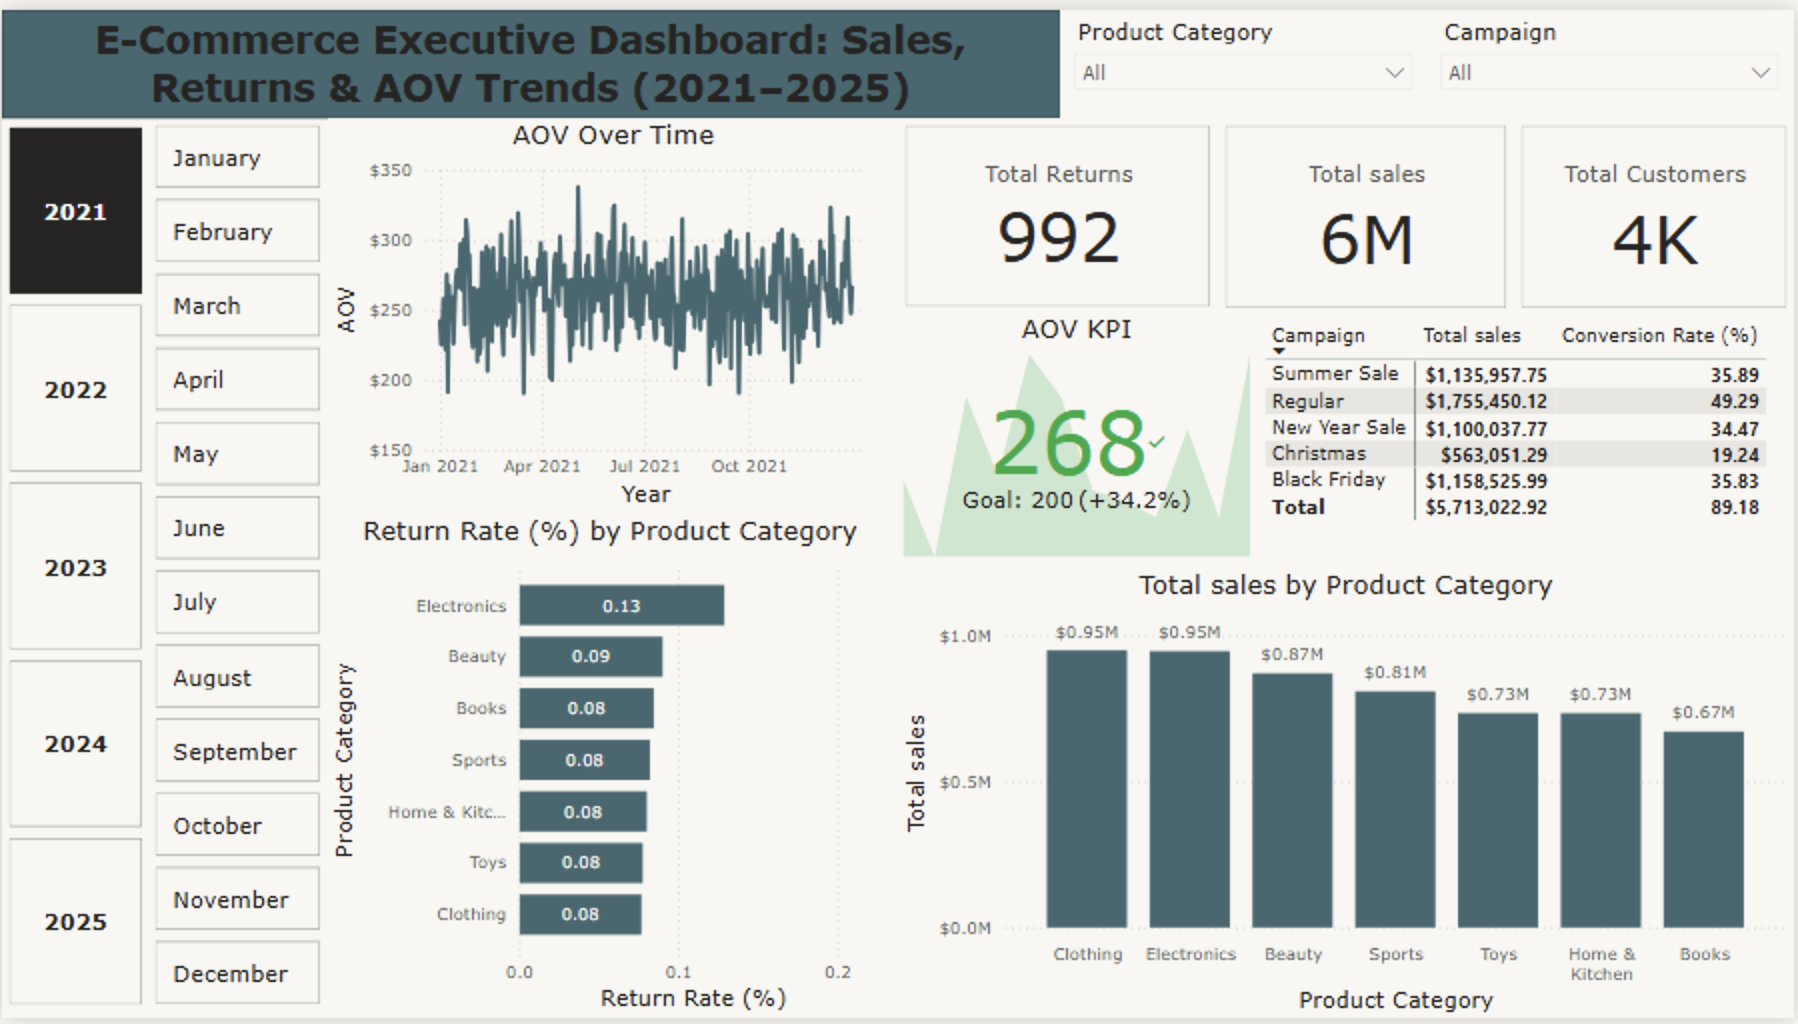

The dashboard page shown, as its layout file describes it:
{"tool":"powerbi","page":{"name":"Page 1","canvas":[1280,720],"ordinal":0},"visuals":[{"type":"advancedSlicerVisual","fields":{"Values":["Dim_Date.OrderDate.Variation.Date Hierarchy.Month"]},"box":[104.5,77.3,128.2,642.7],"z":0},{"type":"shape","box":[0,0,755.6,77.5],"z":1000},{"type":"advancedSlicerVisual","fields":{"Values":["Dim_Date.OrderDate.Variation.Date Hierarchy.Year"]},"box":[0,78.3,105,641.7],"z":2000},{"type":"slicer","fields":{"Values":["Dim_Campaign.Campaign"]},"box":[1017.8,0,262.2,77.5],"z":3000},{"type":"slicer","fields":{"Values":["Dim_Product.ProductCategory"]},"box":[755.6,0,262.2,77.5],"z":4000},{"type":"lineChart","title":"AOV Over Time","fields":{"Y":["_measures.AOV"],"Category":["Dim_Date.OrderDate.Variation.Date Hierarchy.Year","Dim_Date.OrderDate.Variation.Date Hierarchy.Quarter","Dim_Date.OrderDate.Variation.Date Hierarchy.Month","Dim_Date.OrderDate.Variation.Date Hierarchy.Day"]},"box":[232.6,77.5,407.4,281.9],"z":5000},{"type":"clusteredBarChart","title":"Return Rate (%) by Product Category","fields":{"Y":["_measures.Return Rate (%)"],"Category":["Dim_Product.ProductCategory"]},"box":[232,360,406,360],"z":6000},{"type":"cardVisual","fields":{"Data":["_measures.Total Returns"]},"box":[640,77.3,228.2,140.9],"z":7000},{"type":"cardVisual","fields":{"Data":["_measures.Total sales"]},"box":[868.6,77.1,211.4,141.4],"z":8000},{"type":"cardVisual","fields":{"Data":["_measures.Total Customers"]},"box":[1080,77.1,200,141.4],"z":9000},{"type":"clusteredColumnChart","title":"Total sales by Product Category","fields":{"Category":["Dim_Product.ProductCategory"],"Y":["_measures.Total sales"]},"box":[640,398.2,640,321.8],"z":10000},{"type":"textbox","box":[0,0,755,91.7],"z":10500},{"type":"pivotTable","fields":{"Rows":["Dim_Campaign.Campaign"],"Values":["_measures.Total sales","_measures.Conversion Rate (%)"]},"box":[896.7,218.3,383.3,176.7],"z":11000},{"type":"kpi","title":"AOV KPI","fields":{"Indicator":["_measures.AOV"],"Goal":["_measures.Target_AOV"],"TrendLine":["Dim_Date.YearMonth"]},"box":[638.3,215,258.3,180],"z":12000}]}

Visuals, with their boxes in screenshot pixels (x1, y1, x2, y2), scaled from the page's 1280x720 canvas onto the 1798x1024 screenshot:
advancedSlicerVisual - Dim_Date.OrderDate.Variation.Date Hierarchy.Month: x1=147 y1=110 x2=327 y2=1023
shape: x1=0 y1=0 x2=1061 y2=110
advancedSlicerVisual - Dim_Date.OrderDate.Variation.Date Hierarchy.Year: x1=0 y1=111 x2=147 y2=1023
slicer - Dim_Campaign.Campaign: x1=1430 y1=0 x2=1797 y2=110
slicer - Dim_Product.ProductCategory: x1=1061 y1=0 x2=1430 y2=110
"AOV Over Time" lineChart: x1=327 y1=110 x2=899 y2=511
"Return Rate (%) by Product Category" clusteredBarChart: x1=326 y1=512 x2=896 y2=1023
cardVisual - _measures.Total Returns: x1=899 y1=110 x2=1220 y2=310
cardVisual - _measures.Total sales: x1=1220 y1=110 x2=1517 y2=311
cardVisual - _measures.Total Customers: x1=1517 y1=110 x2=1797 y2=311
"Total sales by Product Category" clusteredColumnChart: x1=899 y1=566 x2=1797 y2=1023
textbox: x1=0 y1=0 x2=1061 y2=130
pivotTable - Dim_Campaign.Campaign x _measures.Total sales: x1=1260 y1=310 x2=1797 y2=562
"AOV KPI" kpi: x1=897 y1=306 x2=1259 y2=562
